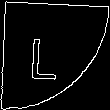L_N: (38, 29, 72, 81)
